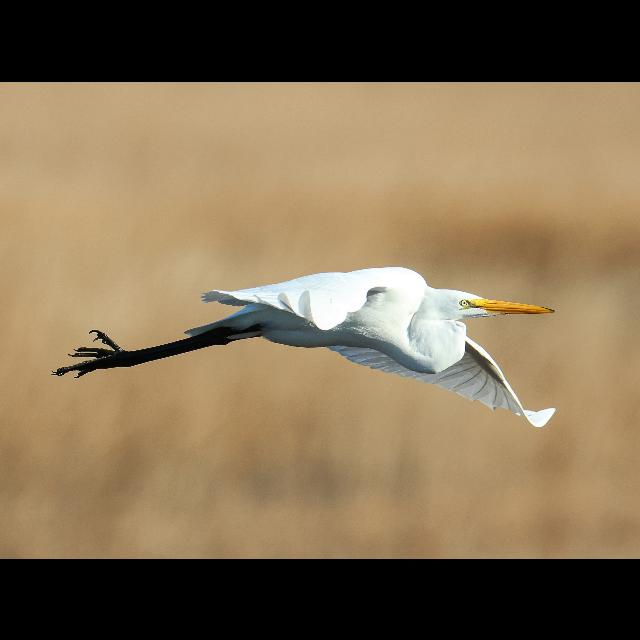egret: (58, 267, 558, 433)
